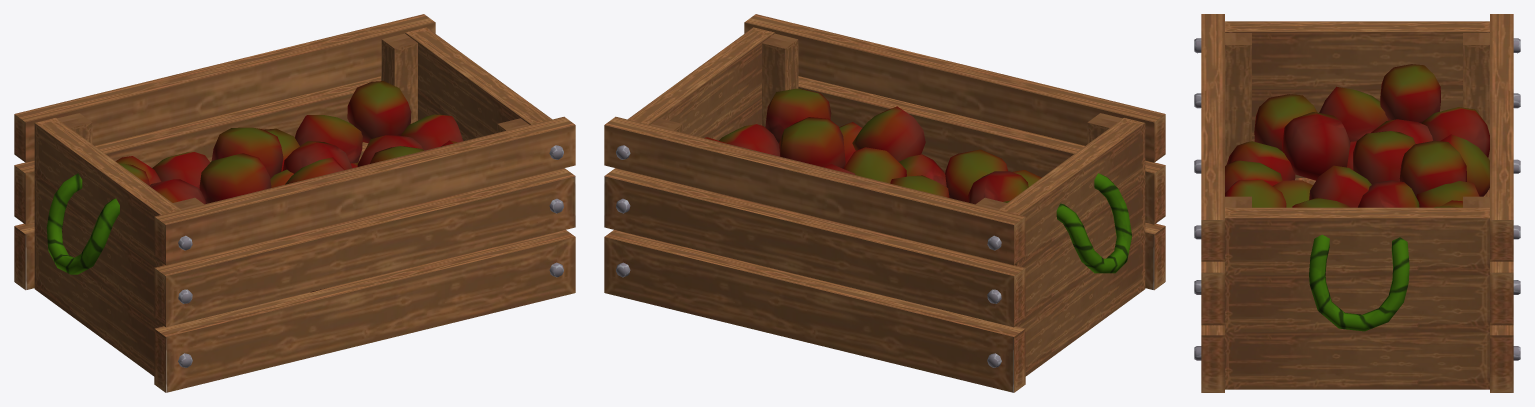
File: FarmCrate_Apple.glb
The picture shows the model from 3 angles, left to right: view 1: azimuth 30°, elevation 25°; view 2: azimuth 150°, elevation 25°; view 3: azimuth 270°, elevation 25°; orthographic projection. The views are drawn at different scales.
Visible parts, largest first — view 1: FarmCrate_Apple; view 2: FarmCrate_Apple; view 3: FarmCrate_Apple.
Part boxes in pixels (x1,y1,x2,y2): FarmCrate_Apple: (14, 14, 575, 392); FarmCrate_Apple: (604, 14, 1165, 392); FarmCrate_Apple: (1194, 14, 1520, 392).
Bounding box in the file's own units: 0.7138 × 0.2437 × 0.4142.
3 materials, 3 textured.
